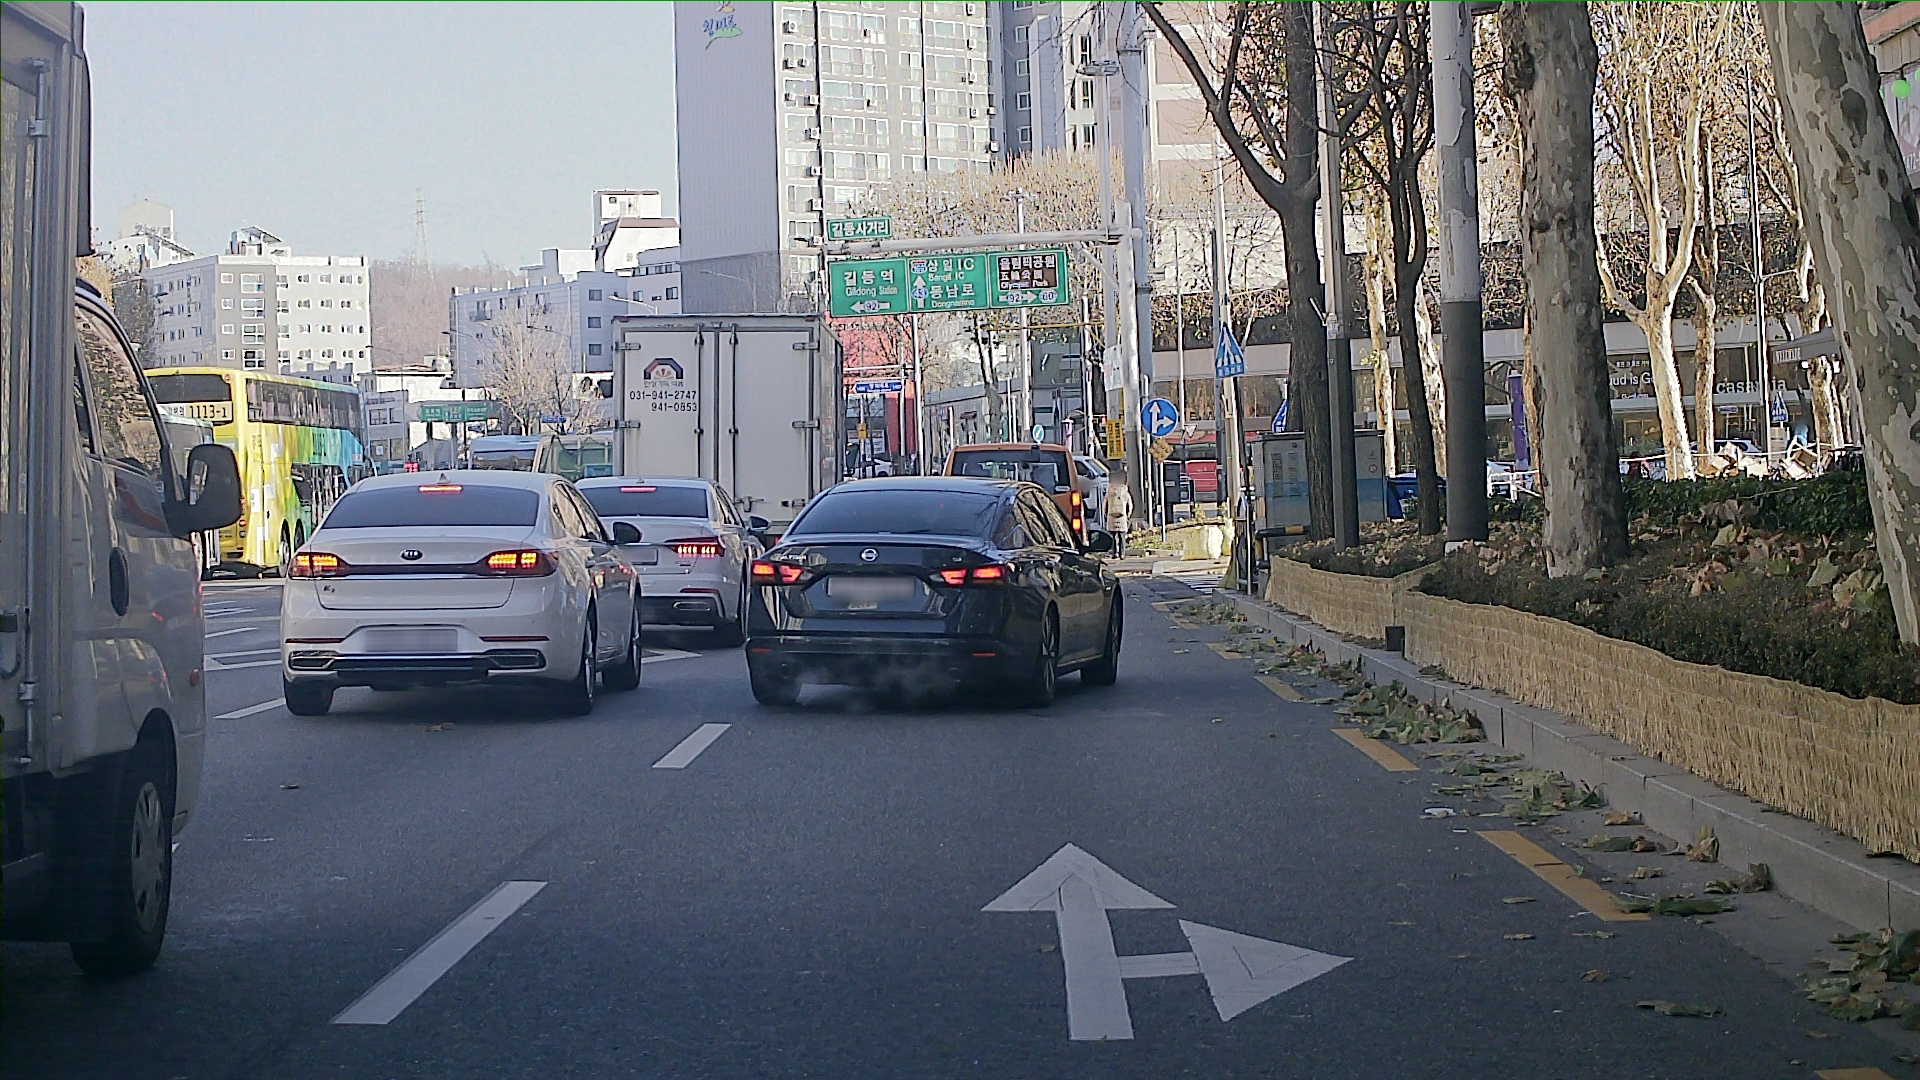trafficSignCircle: (1142, 401, 1182, 438)
